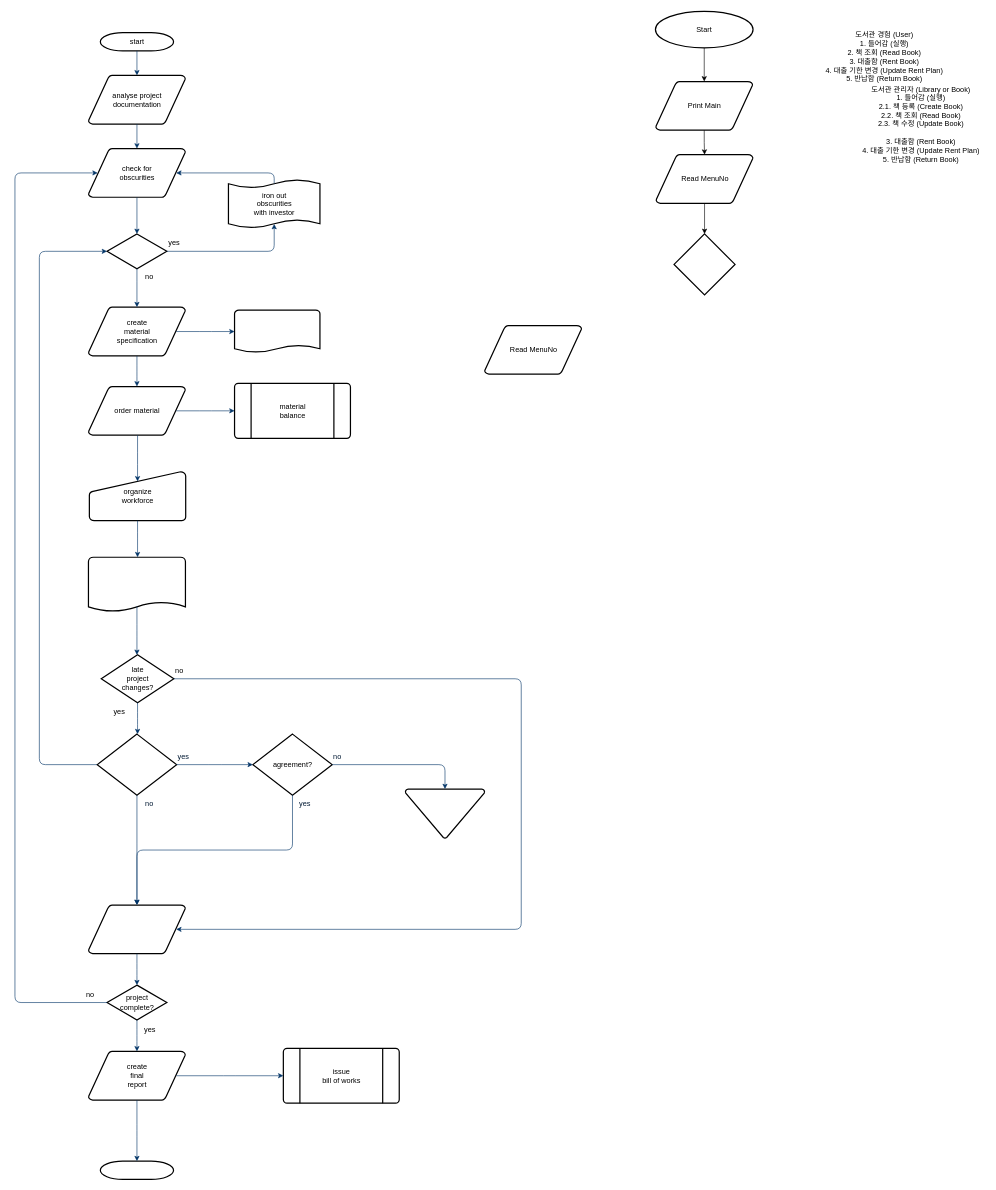
Some shapes in this 996 by 1190 pixel diagram are drawn without their labels. Each missing label, with the centre of its shape:
create Gantt diagram: (x=137, y=584)
create status report: (x=137, y=929)
end: (x=136, y=1170)
final project: (x=277, y=331)
investor disapproves investment?: (x=136, y=764)
MenuNo: (x=704, y=264)
obscurities?: (x=136, y=251)
terminate contract: (x=444, y=813)
